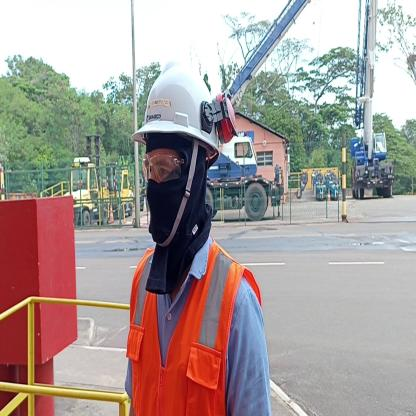Balaclava: (147, 137, 209, 240)
Capacete: (140, 53, 223, 144)
colete: (134, 257, 232, 416)
